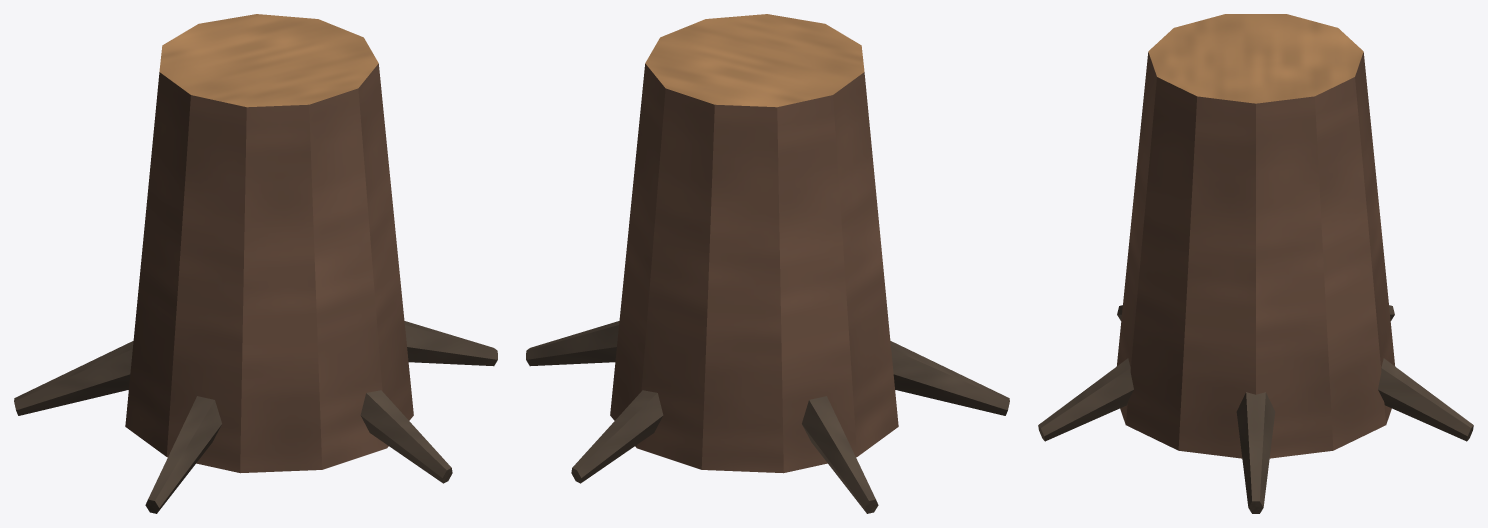
File: stump_big_02.fbx
3 views of the same model, side by side, from view 1: azimuth 30°, elevation 25°; view 2: azimuth 150°, elevation 25°; view 3: azimuth 270°, elevation 25° (orthographic). The views are drawn at different scales.
Parts seen in each view (by area): view 1: stump_big_02; view 2: stump_big_02; view 3: stump_big_02.
Part boxes in pixels (x1,y1,x2,y2): stump_big_02: (14,14,497,513); stump_big_02: (526,14,1009,513); stump_big_02: (1038,14,1473,513).
Bounding box in the file's own units: 139 × 115 × 130.
1 material, 1 textured.
